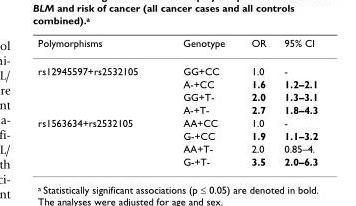table: (37, 36, 317, 167)
table column: (37, 36, 159, 167), (159, 36, 237, 167), (274, 36, 317, 167), (237, 36, 274, 167)
table column header: (37, 36, 317, 56)
table row: (37, 56, 317, 77), (37, 36, 317, 56), (37, 89, 317, 102), (37, 102, 317, 115), (37, 115, 317, 128), (37, 128, 317, 141), (37, 141, 317, 154), (37, 154, 317, 167), (37, 77, 317, 89)
table spanning cell: (37, 56, 159, 115), (37, 115, 159, 167)
